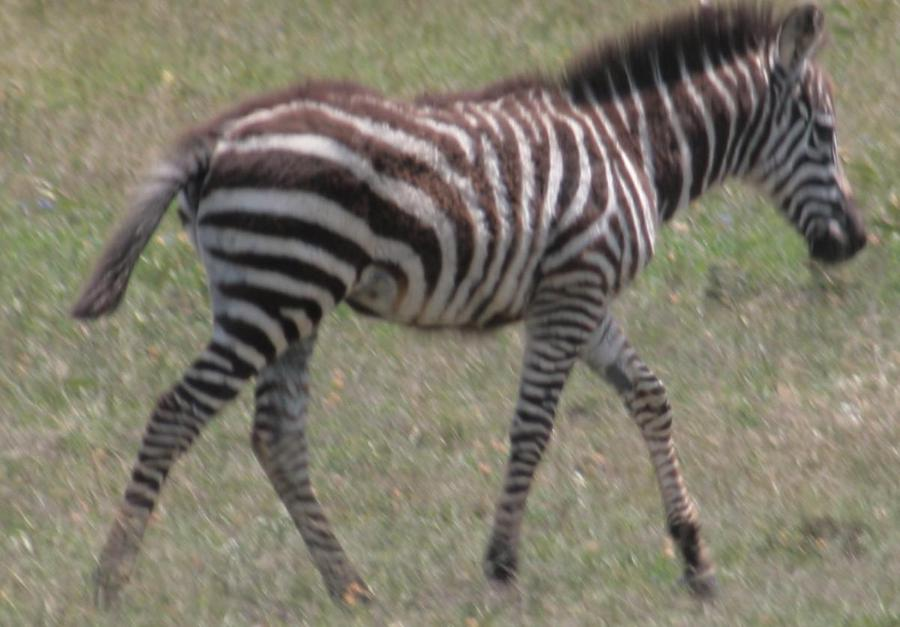zebra_plains: (171, 16, 702, 380)
